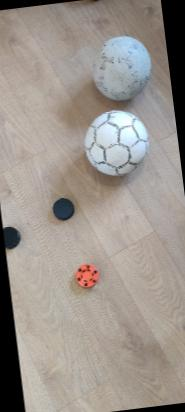Football size 5: (78, 102, 152, 181), (84, 30, 154, 105)
hockey puck: (72, 260, 100, 290), (48, 195, 75, 222)
